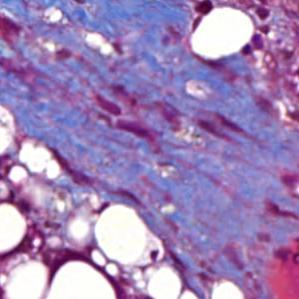steatosis: (93, 203, 151, 268)
